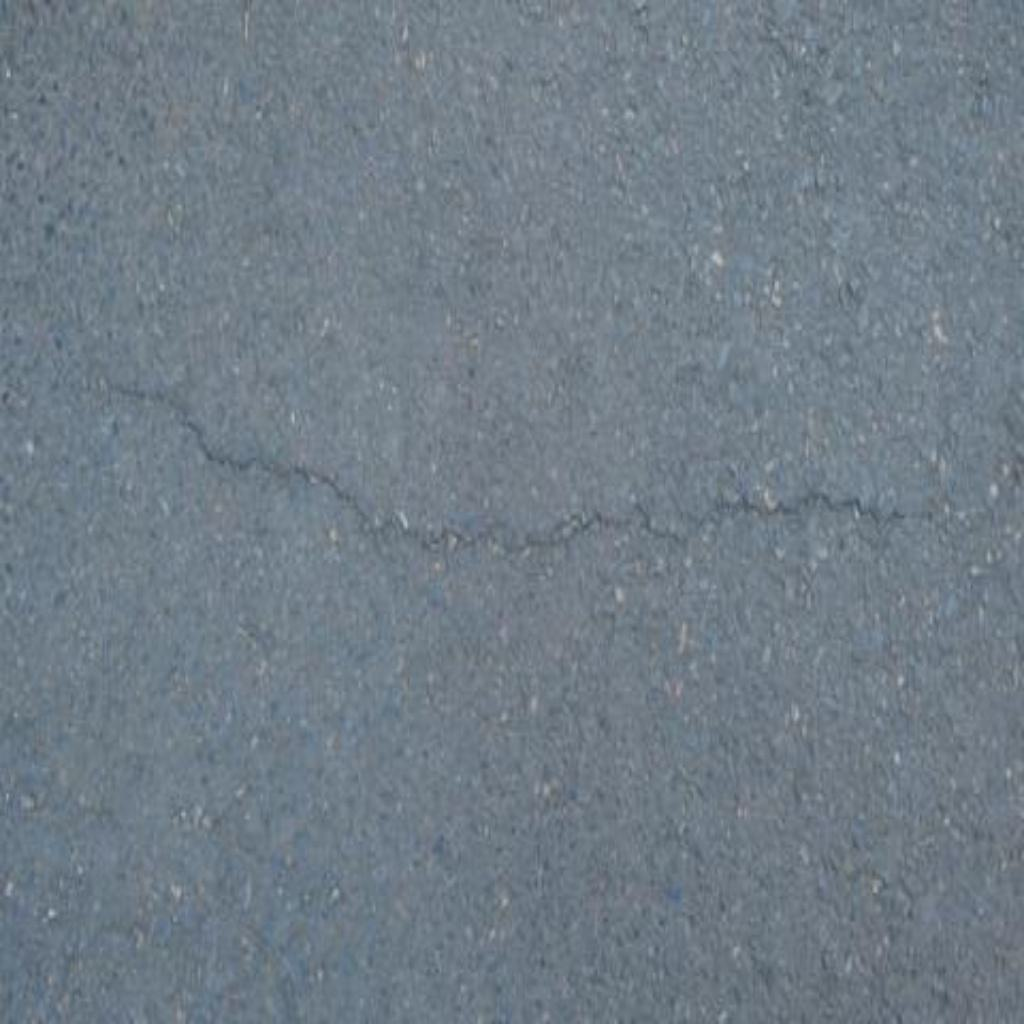Crack: (104, 382, 939, 548)
